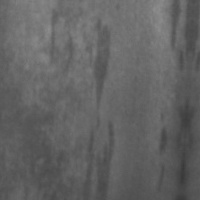inclusion: (76, 11, 124, 199), (143, 107, 175, 195), (44, 6, 81, 76), (161, 11, 192, 74)
